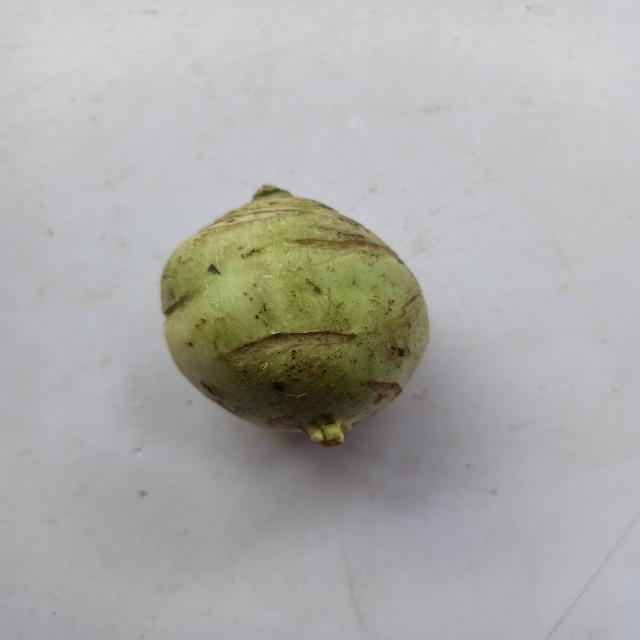Turnip: (115, 168, 458, 466)
